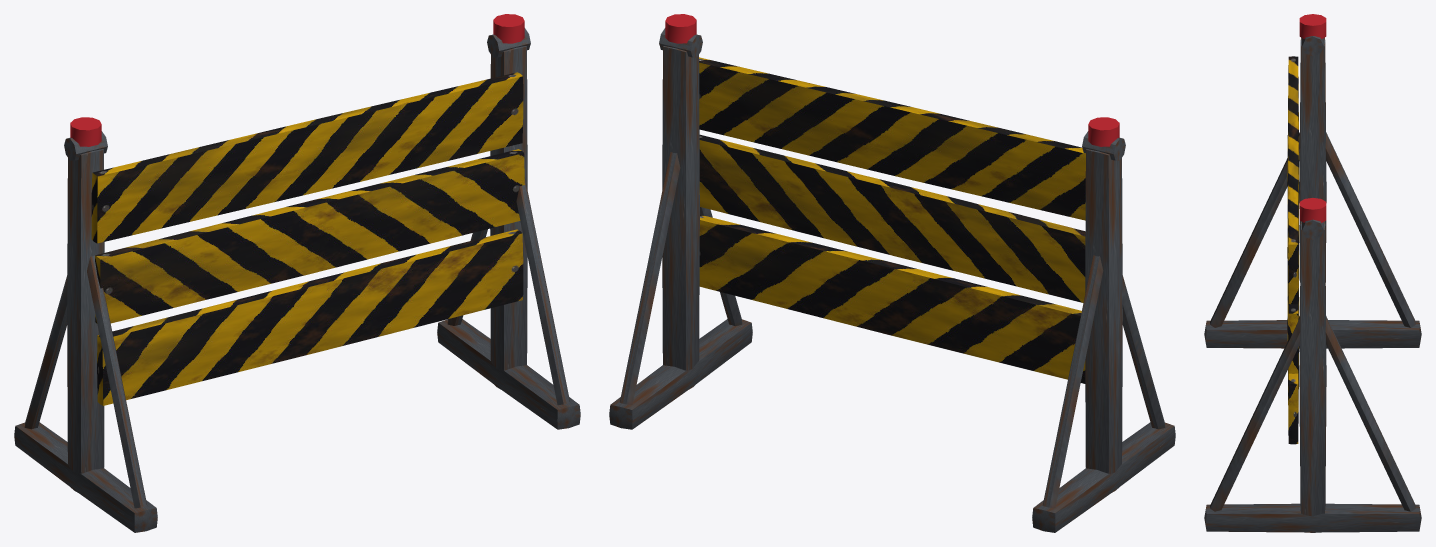
Rendered from prop_soft_barrier.glb.
3 renders of one model, left to right at view 1: azimuth 30°, elevation 25°; view 2: azimuth 150°, elevation 25°; view 3: azimuth 270°, elevation 25°, orthographic. The views are drawn at different scales.
Parts seen in each view (by area): view 1: prop_soft_barrier_body; view 2: prop_soft_barrier_body; view 3: prop_soft_barrier_body.
Boxes of the visible parts, x1,y1,x2,y2 form: prop_soft_barrier_body: (14, 14, 580, 532); prop_soft_barrier_body: (609, 14, 1175, 532); prop_soft_barrier_body: (1204, 14, 1421, 532).
Size of the model in its own units: 0.86 by 0.66 by 0.4.
Materials: 1 (1 with a texture image).
